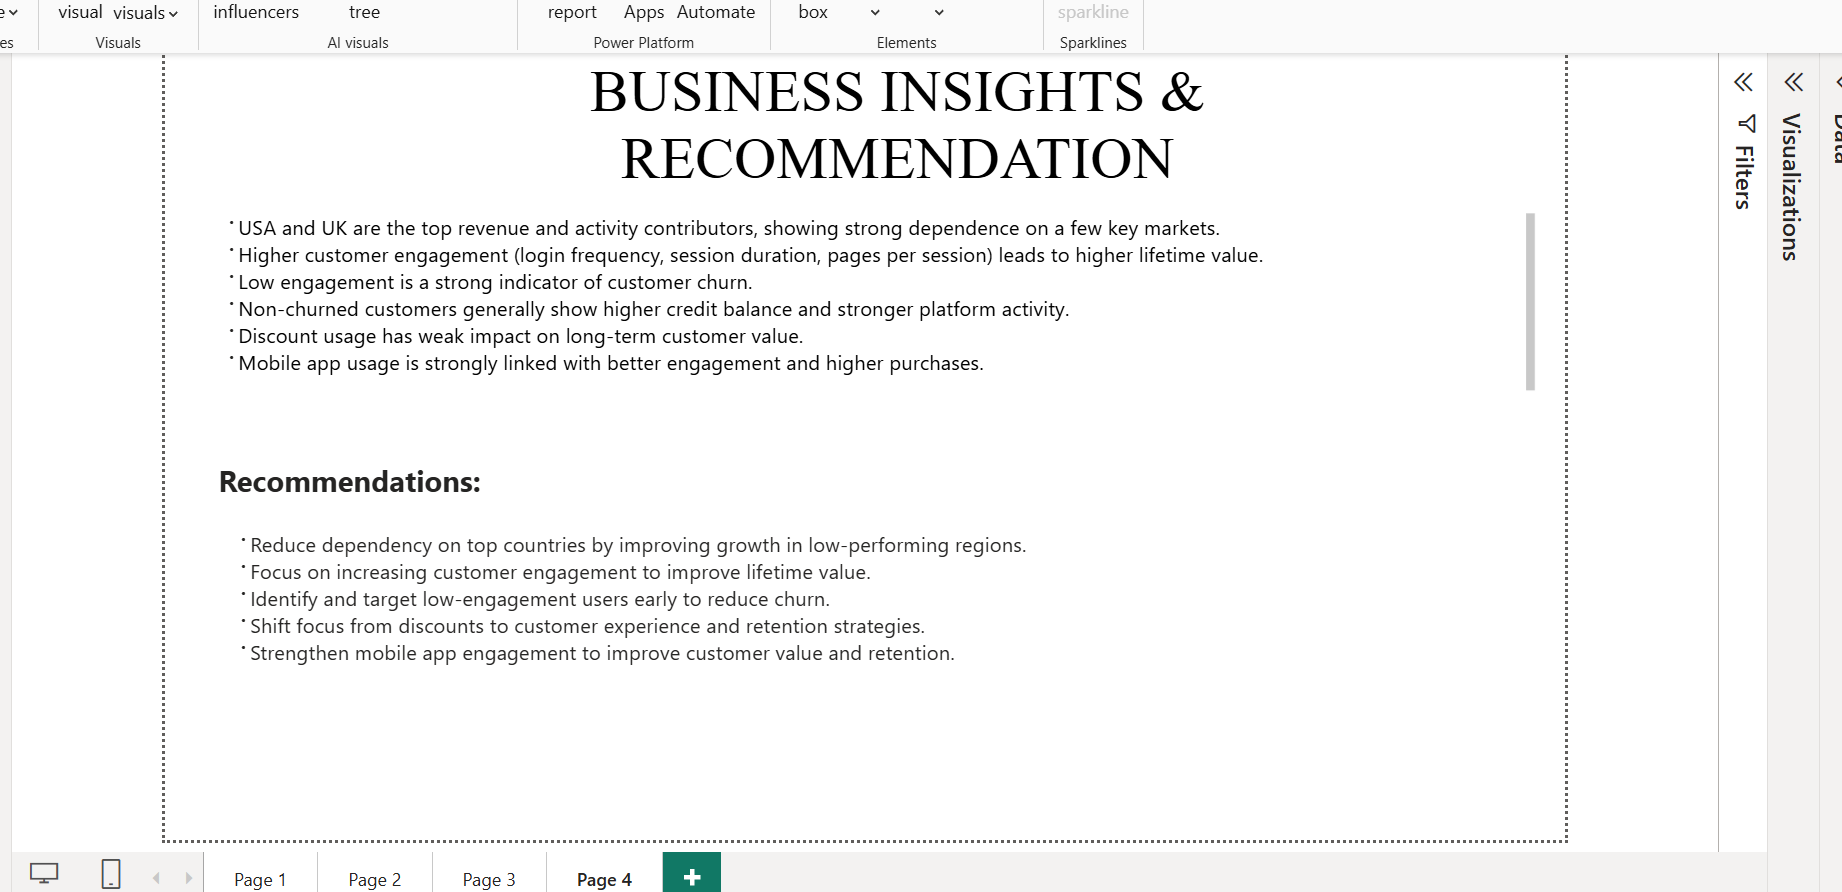

What the dashboard file says about the page in this screenshot:
{"tool":"powerbi","page":{"name":"Page 4","canvas":[1280,720],"ordinal":3},"visuals":[{"type":"textbox","box":[348.3,0,643.5,140.8],"z":0},{"type":"textbox","box":[43.9,140.8,1214.4,174.1],"z":1},{"type":"textbox","box":[43.9,368,255.9,63.6],"z":2},{"type":"textbox","box":[54.5,431.5,1181.1,201.4],"z":3}]}

Visuals, with their boxes on the page's 1280x720 design canvas (x1, y1, x2, y2). These are canvas units, not pixel positions in the 1842x892 screenshot, which may show the page scaled, cropped or inside an application window:
textbox: 348, 0, 992, 141
textbox: 44, 141, 1258, 315
textbox: 44, 368, 300, 432
textbox: 54, 432, 1236, 633
